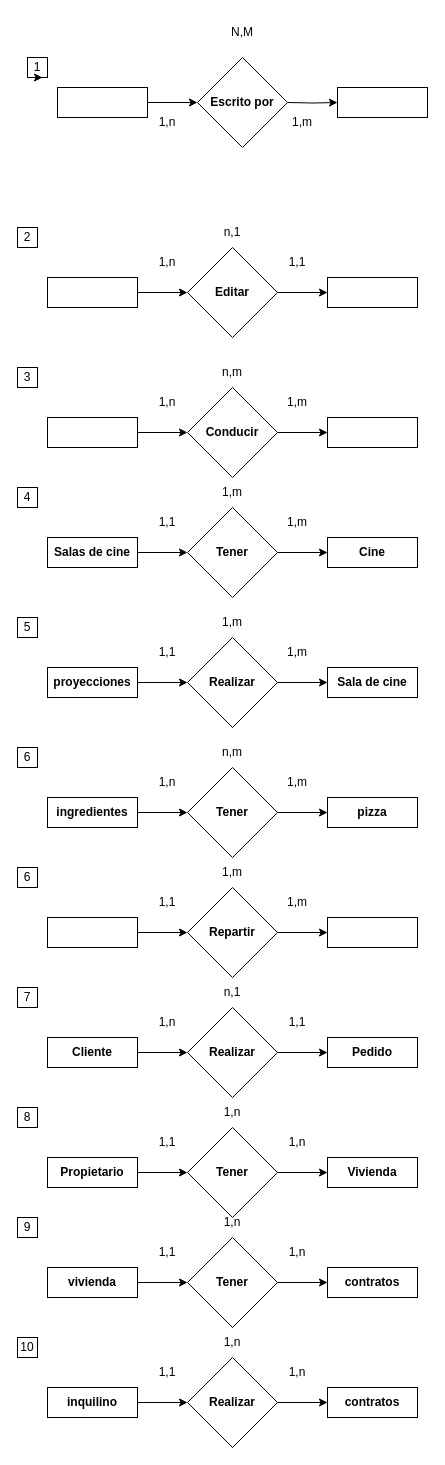
This 445x1465 diagram has some shape labels left out. Here are the shapes that lost their labels. From the top down, the box of each, then its label:
(56, 86, 148, 118): Libro
(336, 86, 428, 118): Autor
(46, 276, 138, 308): Revista
(326, 276, 418, 308): Editorial
(46, 416, 138, 448): Autobus
(326, 416, 418, 448): Conductor
(46, 916, 138, 948): Pedidos
(326, 916, 418, 948): Repartdor
